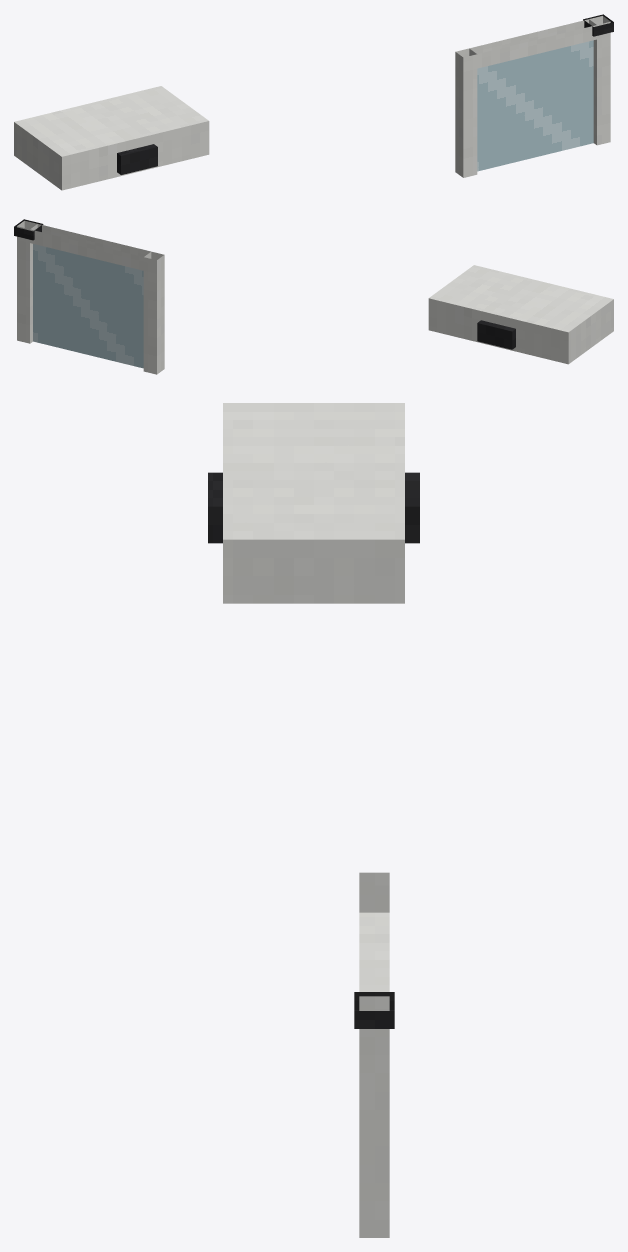
Rendered from auto_door_tele_slider_white_c2_upper_right_open.obj.
The picture shows the model from 3 angles, top to bottom: view 1: azimuth 30°, elevation 25°; view 2: azimuth 150°, elevation 25°; view 3: azimuth 270°, elevation 25°; orthographic projection. The views are drawn at different scales.
Parts seen in each view (by area): view 1: auto_door_tele_slider_white_c2_upper_right_open; view 2: auto_door_tele_slider_white_c2_upper_right_open; view 3: auto_door_tele_slider_white_c2_upper_right_open.
Part boxes in pixels (x1,y1,x2,y2): auto_door_tele_slider_white_c2_upper_right_open: (14, 14, 613, 190); auto_door_tele_slider_white_c2_upper_right_open: (14, 219, 613, 374); auto_door_tele_slider_white_c2_upper_right_open: (208, 403, 419, 1237).
Size of the model in its own units: 3.98 by 1 by 0.6562.
